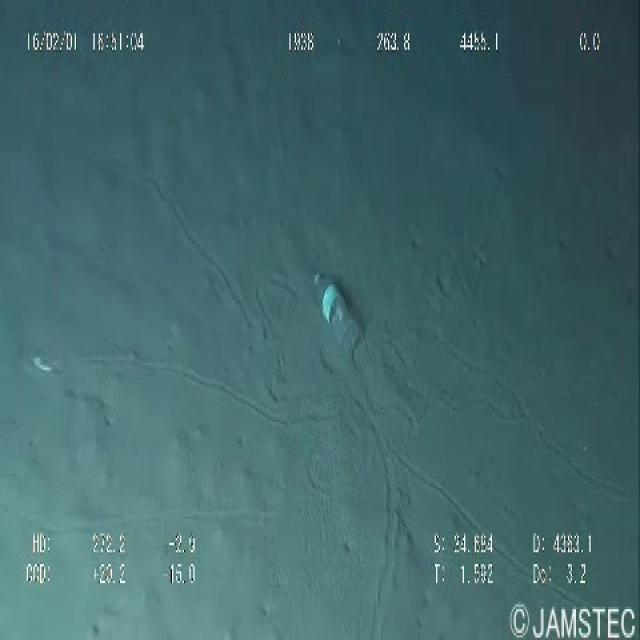plastic: (304, 256, 365, 363)
